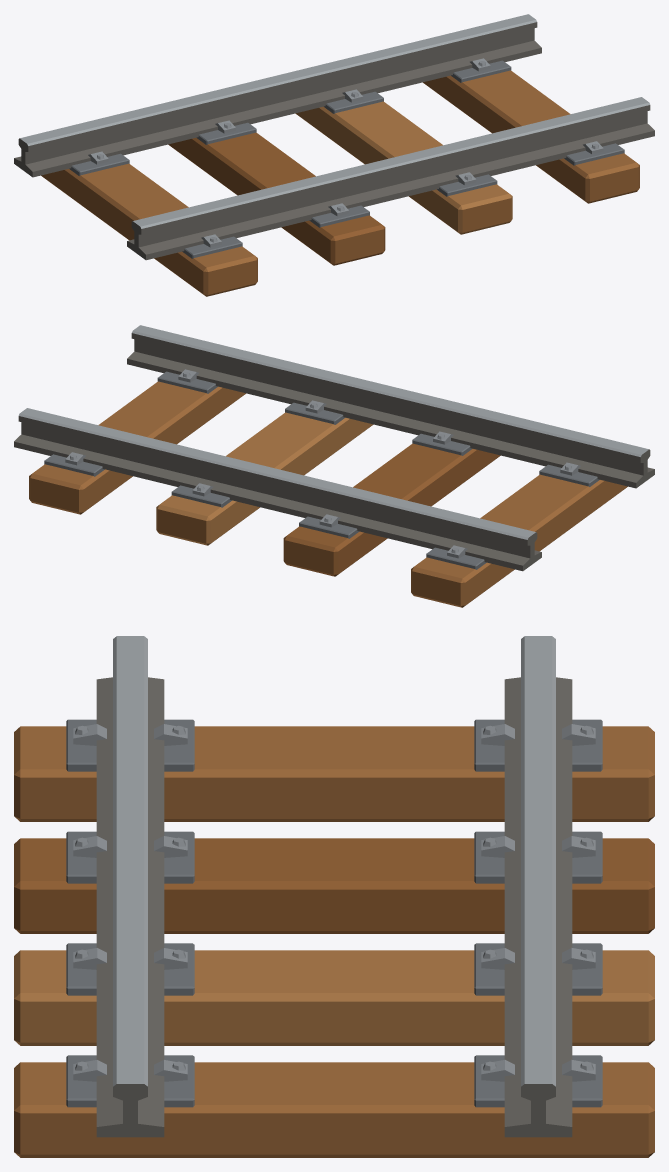
File: Straight Mine Rail.glb
The picture shows the model from 3 angles, top to bottom: view 1: azimuth 30°, elevation 25°; view 2: azimuth 150°, elevation 25°; view 3: azimuth 270°, elevation 25°; orthographic projection. The views are drawn at different scales.
Visible parts, largest first — view 1: Straight Mine Rail.Static; view 2: Straight Mine Rail.Static; view 3: Straight Mine Rail.Static.
Part boxes in pixels (x1,y1,x2,y2): Straight Mine Rail.Static: (14, 14, 654, 296); Straight Mine Rail.Static: (14, 325, 654, 607); Straight Mine Rail.Static: (14, 636, 654, 1157).
Size of the model in its own units: 2 by 0.226 by 1.21.
